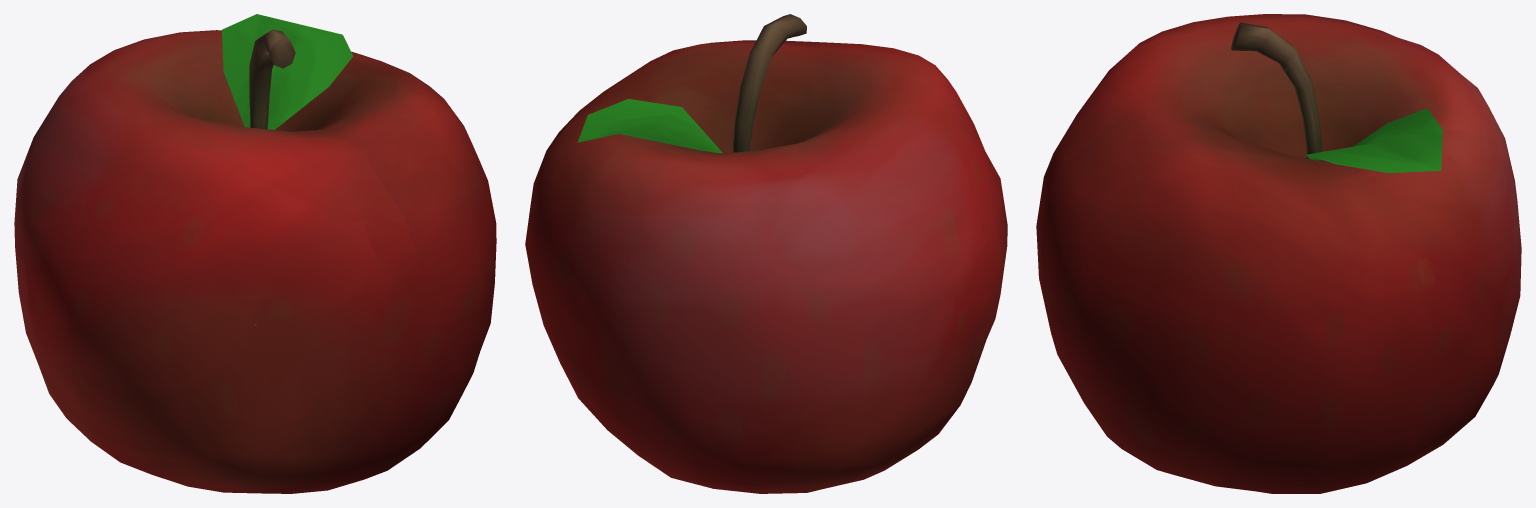
Rendered from Apple.fbx.
3 renders of one model, left to right at view 1: azimuth 30°, elevation 25°; view 2: azimuth 150°, elevation 25°; view 3: azimuth 270°, elevation 25°, orthographic. The views are drawn at different scales.
Parts seen in each view (by area): view 1: Apple, Leaf, Stem; view 2: Apple, Leaf, Stem; view 3: Apple, Leaf, Stem.
Part boxes in pixels (bbox=[...]): Apple: bbox=[14, 30, 496, 493]; Leaf: bbox=[222, 14, 353, 129]; Stem: bbox=[249, 29, 295, 129]; Apple: bbox=[525, 40, 1007, 493]; Leaf: bbox=[577, 99, 722, 153]; Stem: bbox=[733, 14, 806, 152]; Apple: bbox=[1036, 14, 1521, 493]; Leaf: bbox=[1306, 108, 1442, 172]; Stem: bbox=[1231, 22, 1321, 158].
Size of the model in its own units: 150 by 141 by 146.
1 material, 1 textured.
